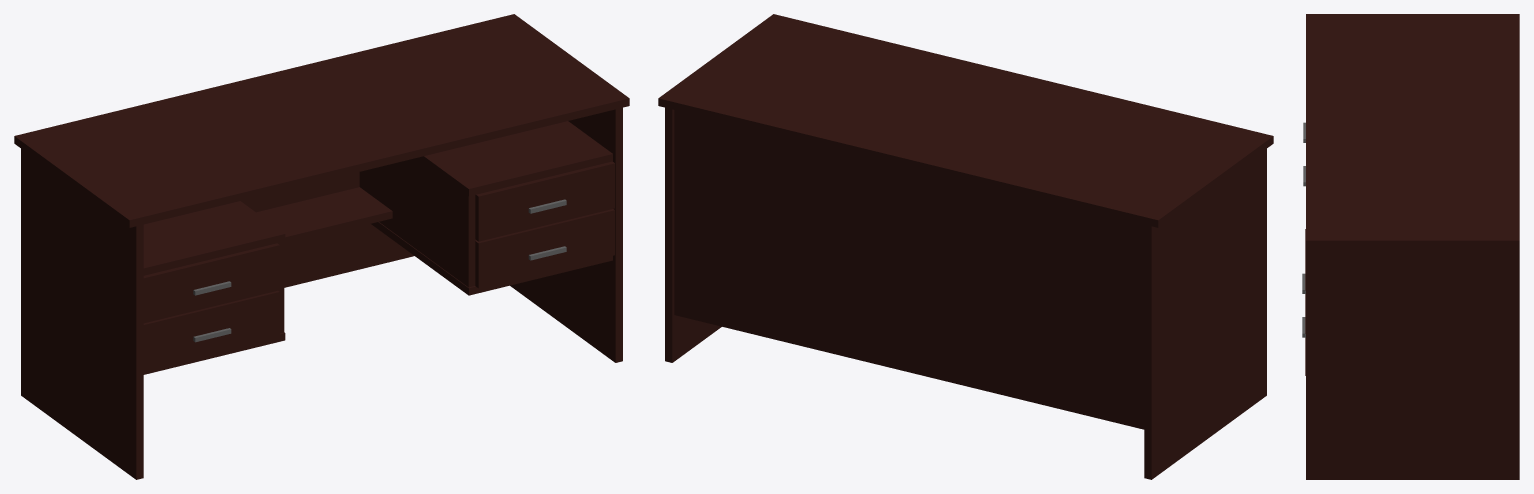
3 views of the same model, side by side, from view 1: azimuth 30°, elevation 25°; view 2: azimuth 150°, elevation 25°; view 3: azimuth 270°, elevation 25° (orthographic). The views are drawn at different scales.
Parts seen in each view (by area): view 1: office_table_030; view 2: office_table_030; view 3: office_table_030.
Boxes of the visible parts, bbox=[...] form: office_table_030: bbox=[14, 14, 629, 479]; office_table_030: bbox=[658, 14, 1273, 479]; office_table_030: bbox=[1302, 14, 1519, 479].
Size of the model in its own units: 1.5 by 0.7501 by 0.61.
